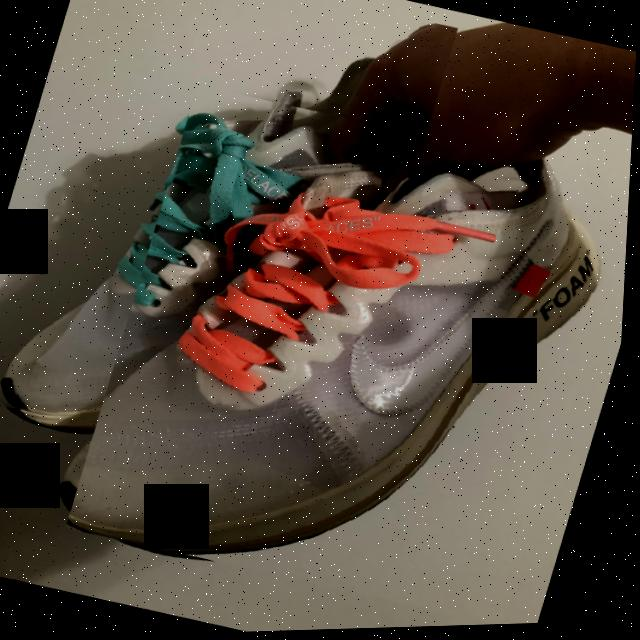shoe: (66, 75, 636, 638), (0, 0, 459, 489)
